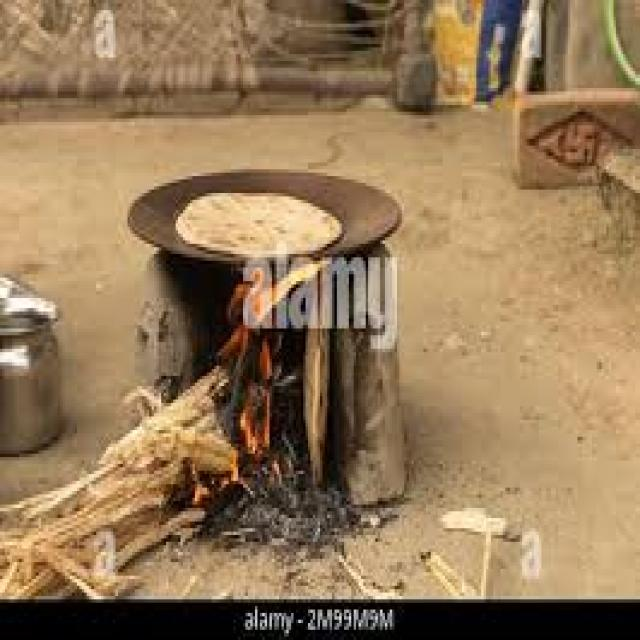RICE BHAKRI: (176, 193, 339, 254)
